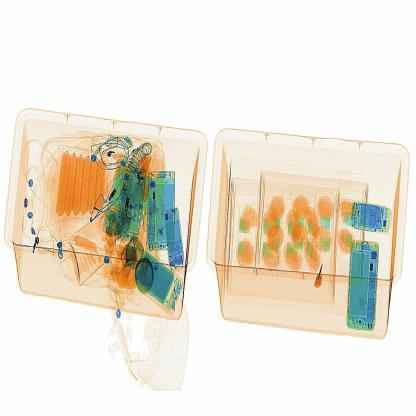wrench: (314, 262, 329, 292)
